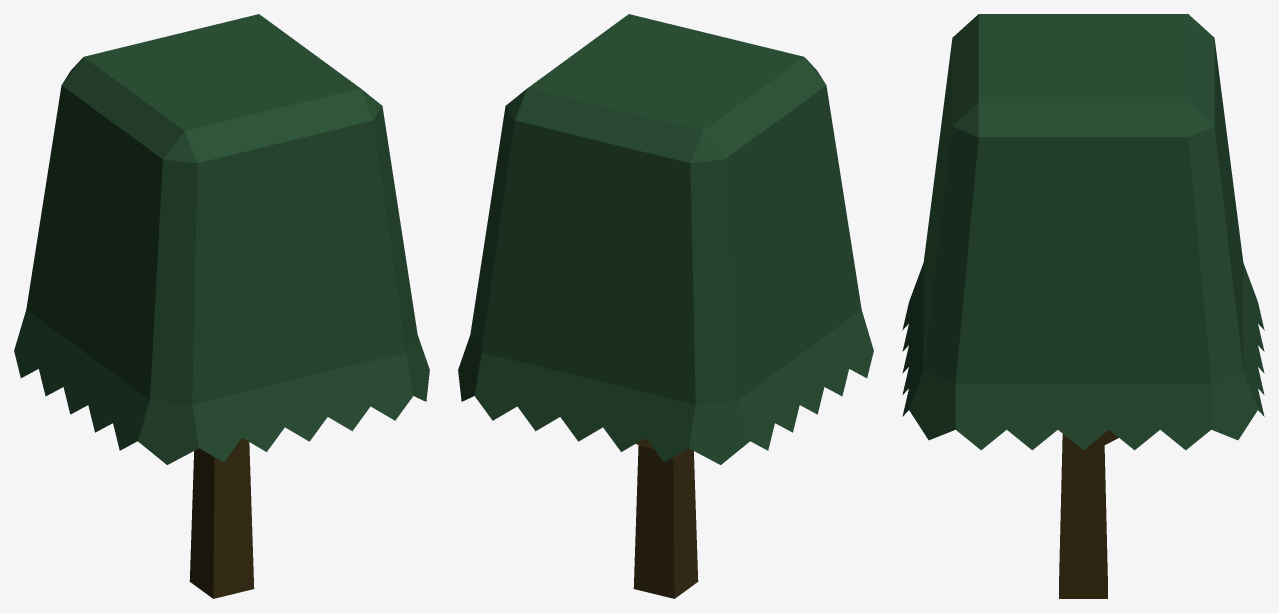
The model's file is tree.fbx.
3 views of the same model, side by side, from view 1: azimuth 30°, elevation 25°; view 2: azimuth 150°, elevation 25°; view 3: azimuth 270°, elevation 25° (orthographic). The views are drawn at different scales.
Visible parts, largest first — view 1: tree; view 2: tree; view 3: tree.
Boxes of the visible parts, x1,y1,x2,y2 form: tree: (14, 14, 429, 598); tree: (458, 14, 873, 598); tree: (902, 14, 1264, 598).
Size of the model in its own units: 1.13 by 1.83 by 1.13.
Materials: 1 (1 with a texture image).
